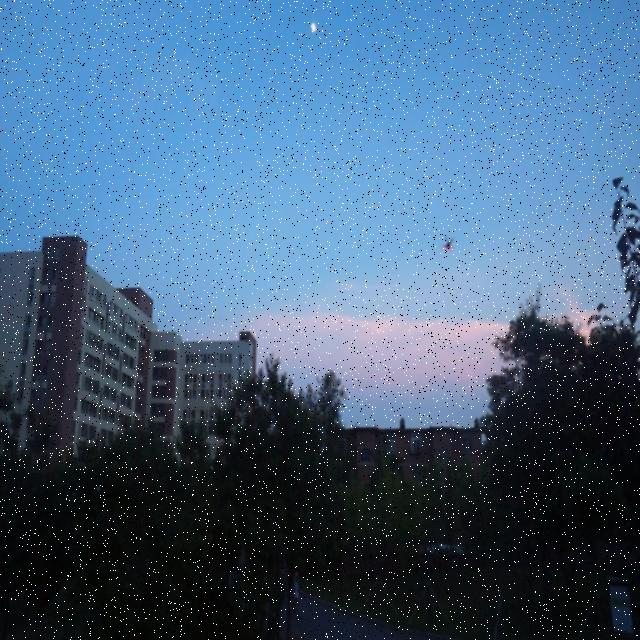UAV: (442, 235, 454, 252)
